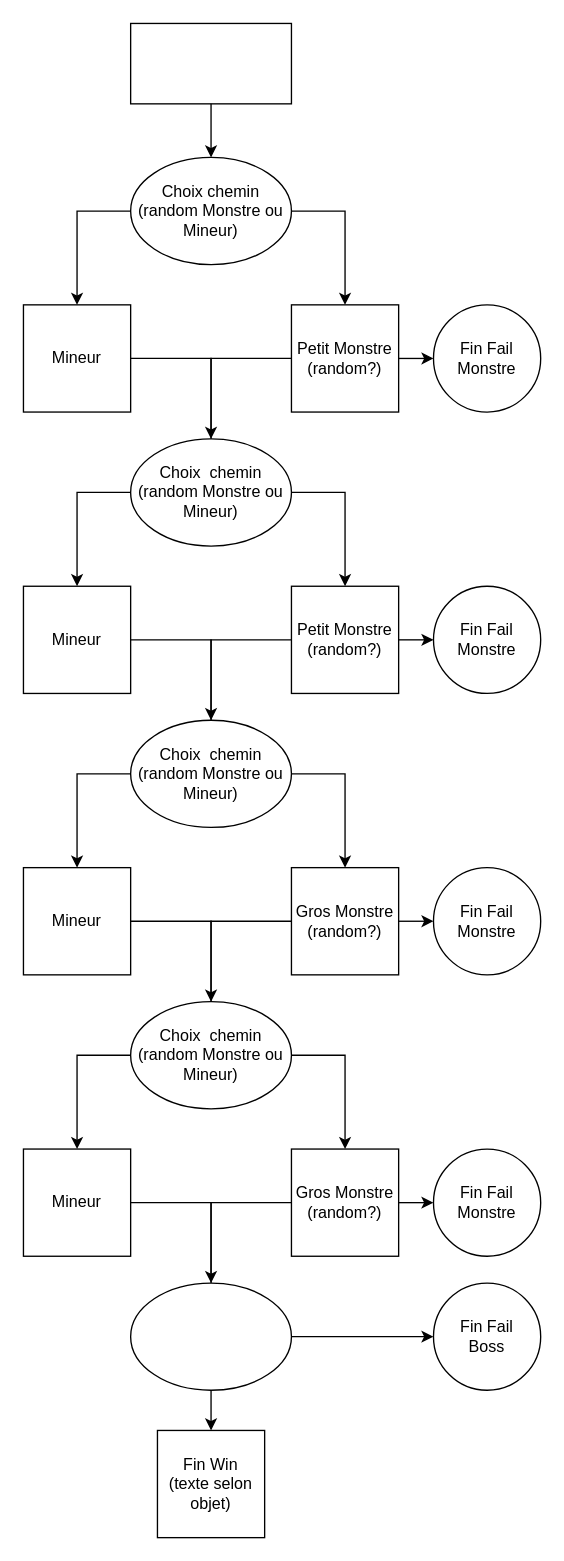
Some shapes in this 564 by 1561 pixel diagram are drawn without their labels. Each missing label, with the box of its shape:
Boss: (129, 1282, 291, 1390)
Menu: (129, 22, 291, 104)
